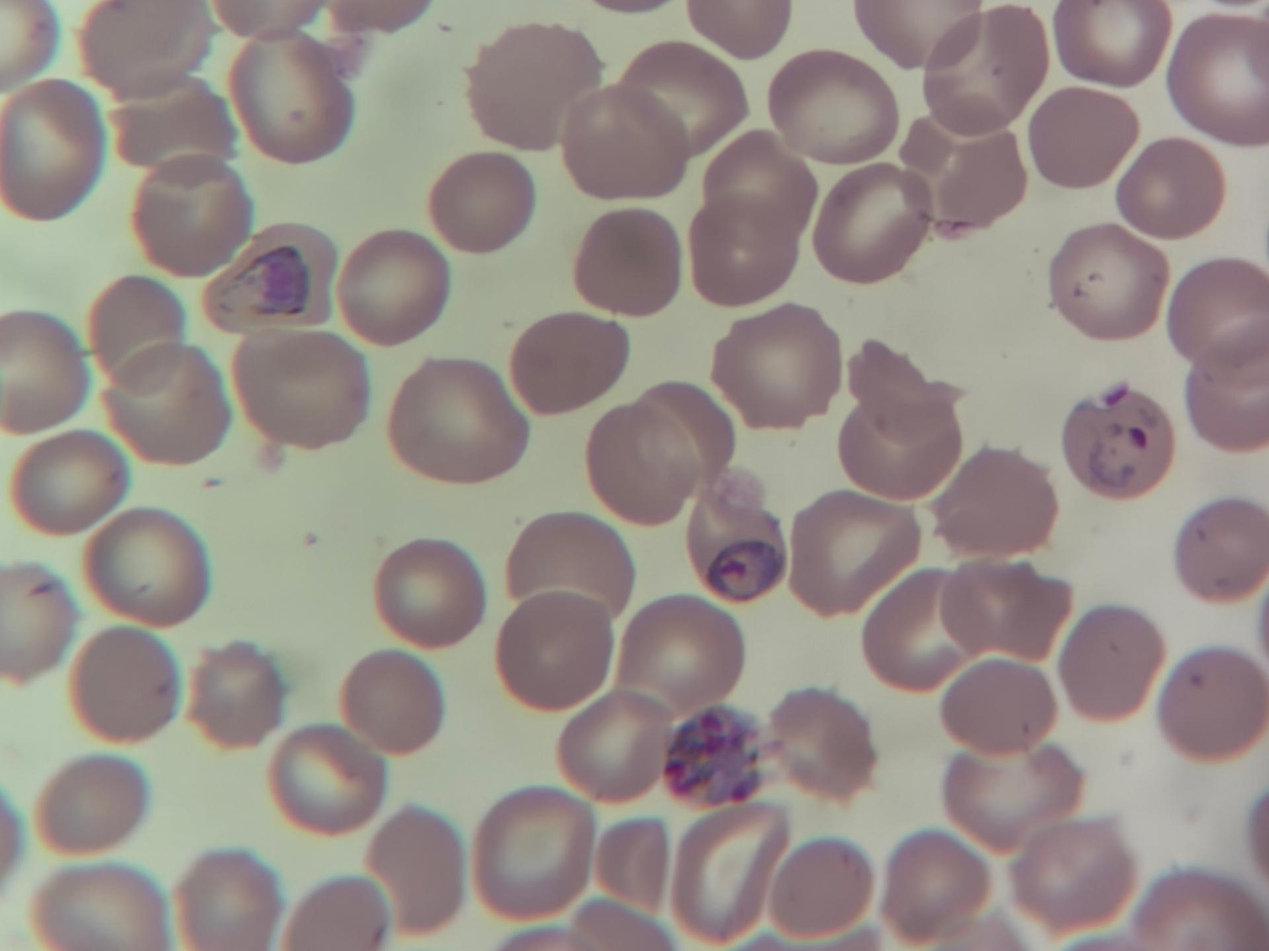Infected: (205, 223, 335, 334), (685, 475, 785, 601), (1060, 389, 1169, 498), (663, 703, 771, 809)
Uninfected: (461, 22, 596, 151), (228, 28, 354, 165), (230, 328, 369, 451), (388, 358, 525, 482), (668, 803, 788, 942), (471, 787, 594, 921), (924, 7, 1050, 136), (98, 342, 232, 463), (787, 490, 914, 617), (709, 305, 837, 431), (83, 507, 210, 628), (941, 742, 1075, 854), (613, 597, 739, 716), (587, 399, 701, 530), (558, 84, 687, 199), (619, 40, 744, 158), (810, 163, 929, 284), (701, 128, 818, 251), (495, 590, 616, 708), (768, 50, 894, 163), (0, 80, 106, 214), (1009, 814, 1129, 932), (1049, 223, 1171, 339), (932, 449, 1059, 560), (133, 155, 250, 274), (83, 0, 219, 102), (937, 556, 1067, 662), (626, 380, 735, 504), (504, 512, 631, 618), (844, 338, 961, 453), (364, 804, 467, 934), (555, 690, 671, 805), (687, 190, 797, 310), (67, 627, 181, 742), (267, 724, 383, 835), (1166, 15, 1269, 139), (861, 568, 964, 692), (1154, 647, 1266, 760), (880, 831, 989, 945), (835, 401, 955, 504), (1058, 606, 1165, 721), (336, 230, 445, 342), (373, 538, 485, 647), (764, 689, 872, 802), (939, 657, 1061, 757), (1165, 257, 1269, 374), (30, 863, 167, 951), (510, 311, 627, 414), (11, 428, 125, 533), (570, 209, 680, 317), (34, 754, 149, 857), (763, 836, 872, 943), (107, 82, 238, 171), (914, 132, 1024, 235), (1028, 87, 1139, 189), (340, 651, 445, 755), (428, 153, 535, 254), (1, 313, 91, 433), (174, 851, 282, 950), (1115, 137, 1221, 237), (182, 642, 282, 747), (87, 274, 187, 375), (1134, 869, 1263, 946), (1174, 498, 1269, 601), (1054, 0, 1166, 85), (1, 559, 80, 679), (276, 874, 389, 949), (590, 816, 672, 916), (1185, 362, 1269, 454), (858, 1, 974, 67), (689, 1, 790, 58), (897, 114, 956, 180)
